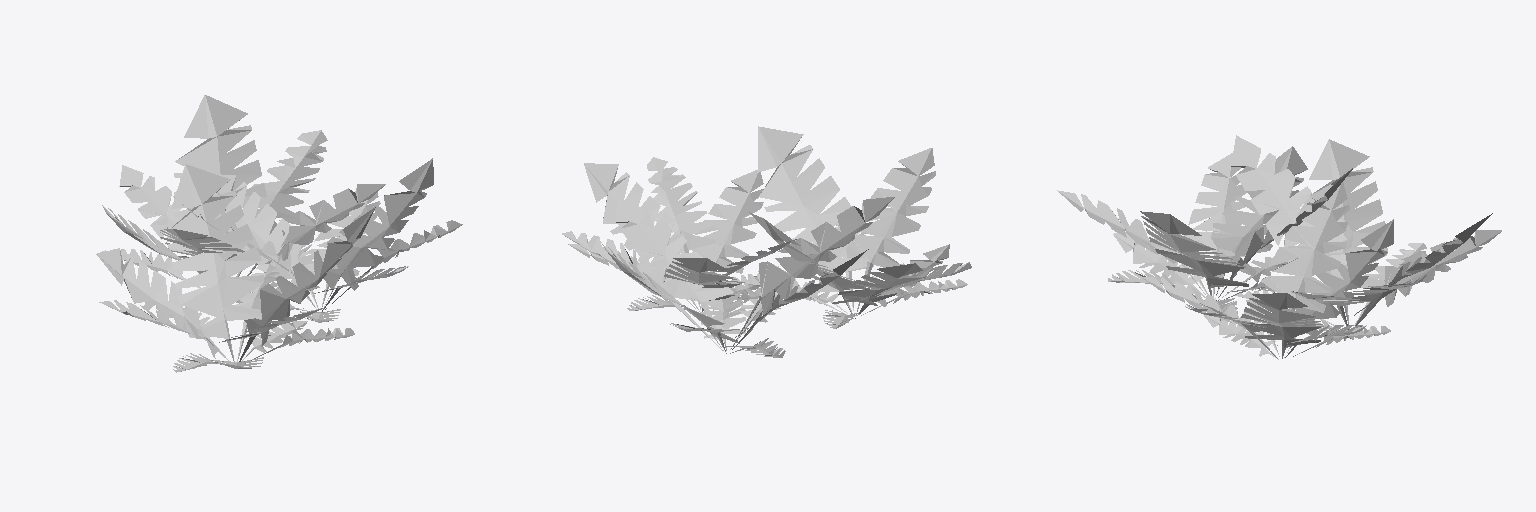
File: fern_2.obj
3 renders of one model, left to right at view 1: azimuth 30°, elevation 25°; view 2: azimuth 150°, elevation 25°; view 3: azimuth 270°, elevation 25°, orthographic.
Parts seen in each view (by area): view 1: fern.004, fern.001; view 2: fern.004, fern.001; view 3: fern.004, fern.001.
Part boxes in pixels (bbox=[...]): fern.004: bbox=[100, 95, 462, 322]; fern.001: bbox=[96, 164, 375, 372]; fern.004: bbox=[562, 157, 894, 357]; fern.001: bbox=[731, 126, 971, 328]; fern.004: bbox=[1142, 135, 1501, 359]; fern.001: bbox=[1057, 146, 1352, 313].
Size of the model in its own units: 4.55 by 1.77 by 4.86.